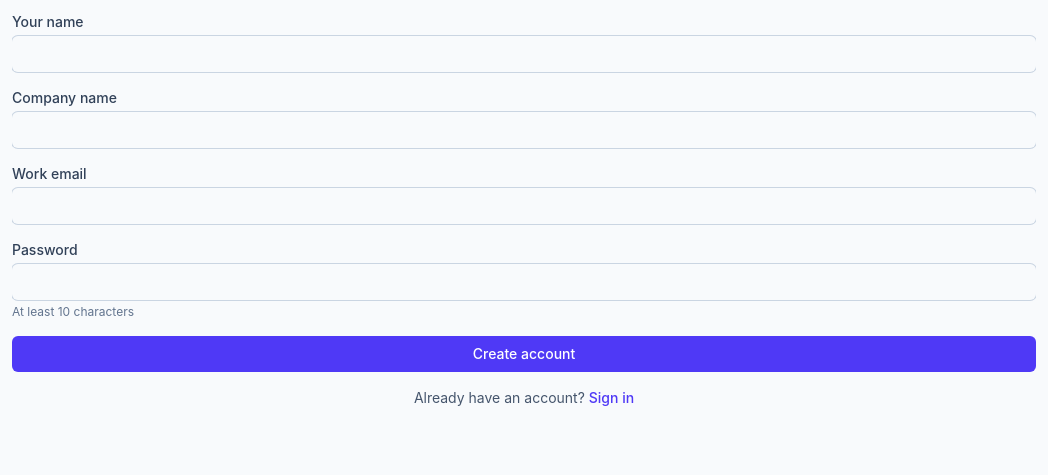
RegisterForm › shows a duplicate-email error from the backend
Type "A" into the field labelled "Your name" at (524, 54), box [12, 36, 1036, 72]
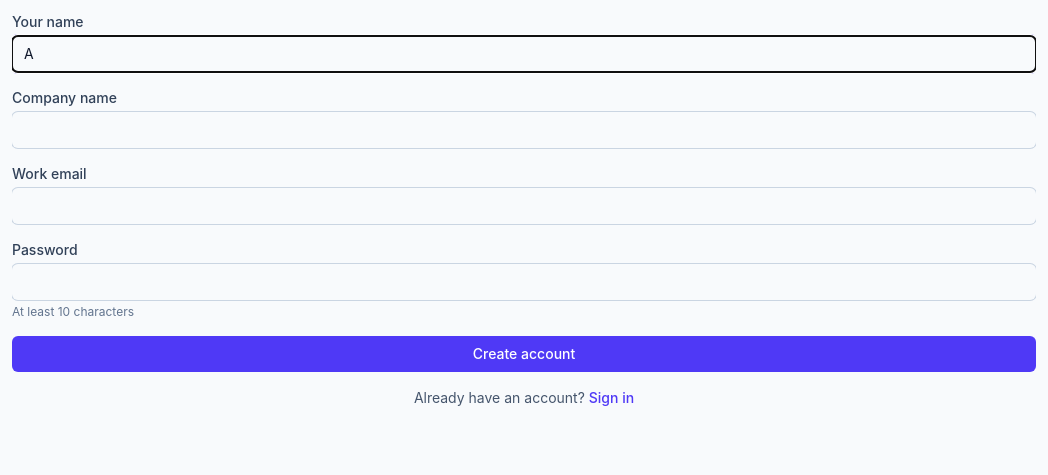
Type "B" into the field labelled "Company name" at (524, 130), box [12, 112, 1036, 148]
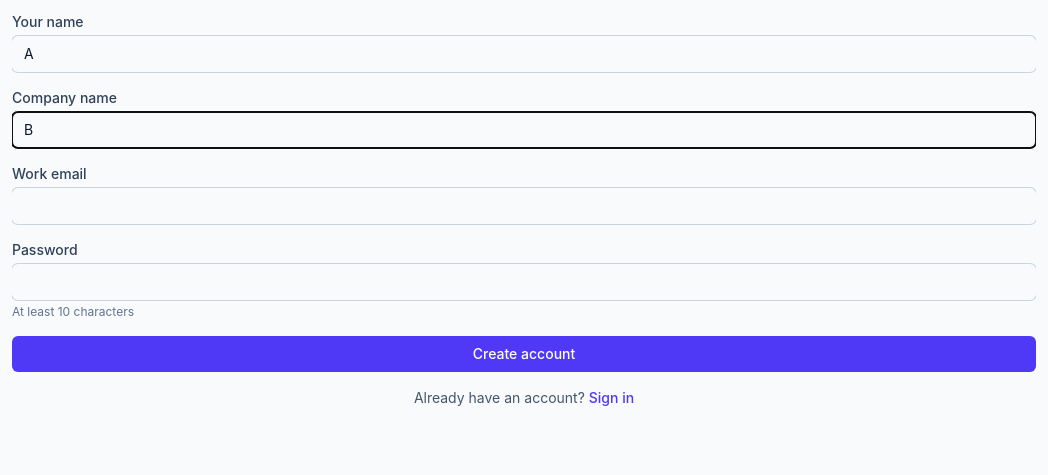
Type "dup@abc.com" into the field labelled "Work email" at (524, 206), box [12, 188, 1036, 224]
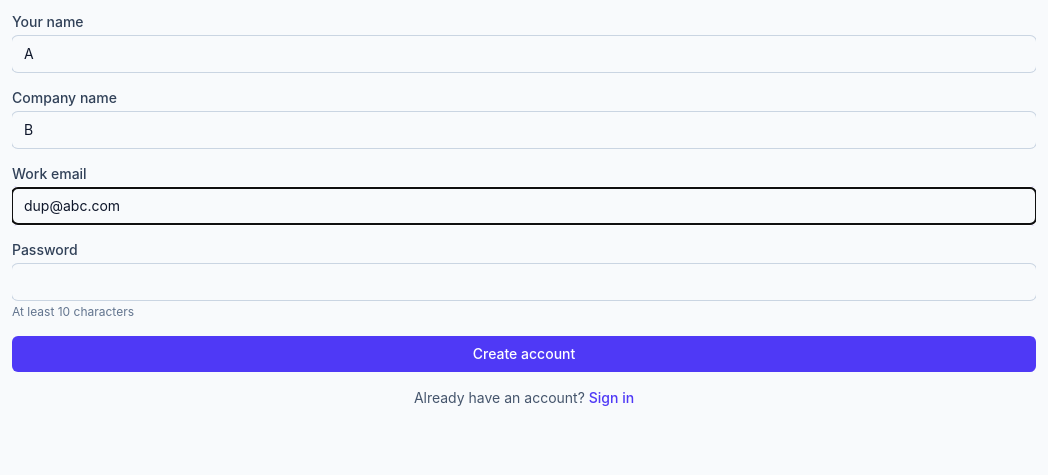
Type "correct-horse-battery" into the password field labelled "Password" at (524, 282), box [12, 264, 1036, 300]
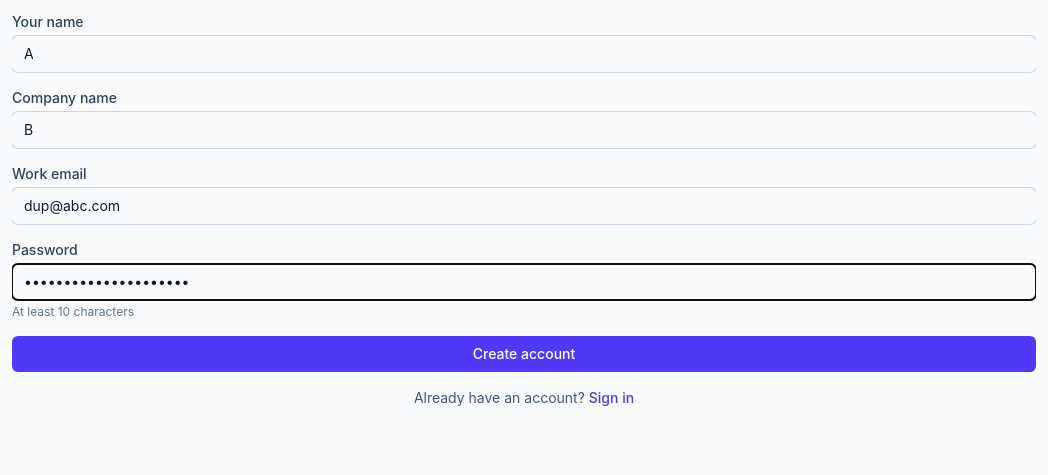
Click the button "Create account" at (524, 354), box [12, 336, 1036, 372]
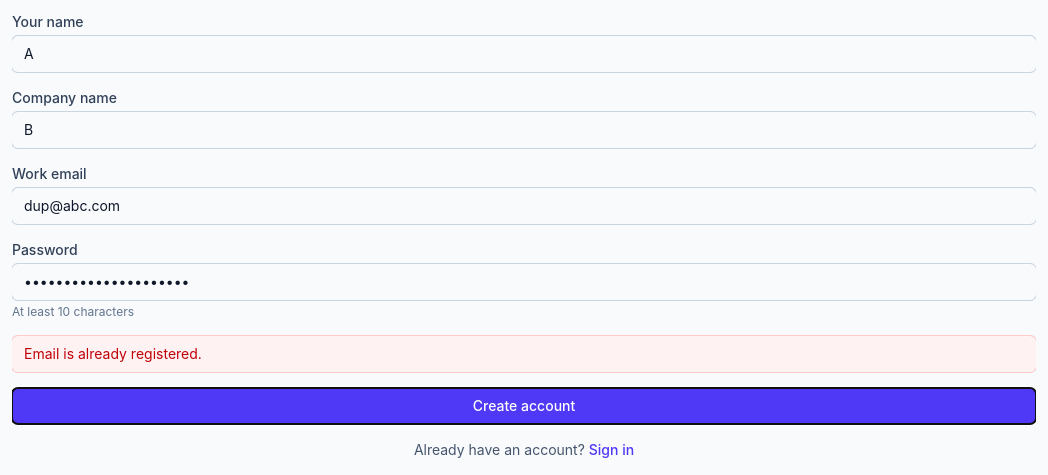
Check: the message shows "already registered", box [24, 345, 202, 362]
